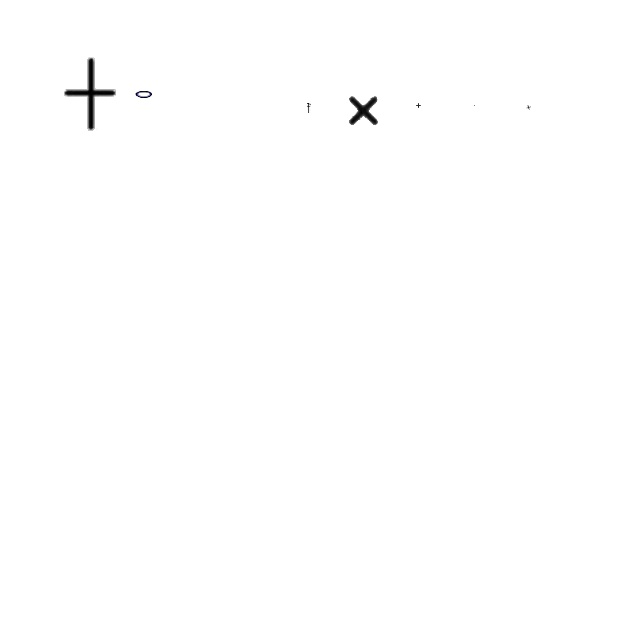chain: (134, 87, 154, 101), (472, 106, 476, 106)
double: (60, 58, 118, 132), (346, 92, 382, 128), (416, 104, 422, 108)
double treble: (307, 103, 311, 113)
enseble_chain: (526, 106, 532, 110)
